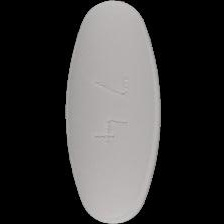16714-224: (0, 0, 224, 224)
